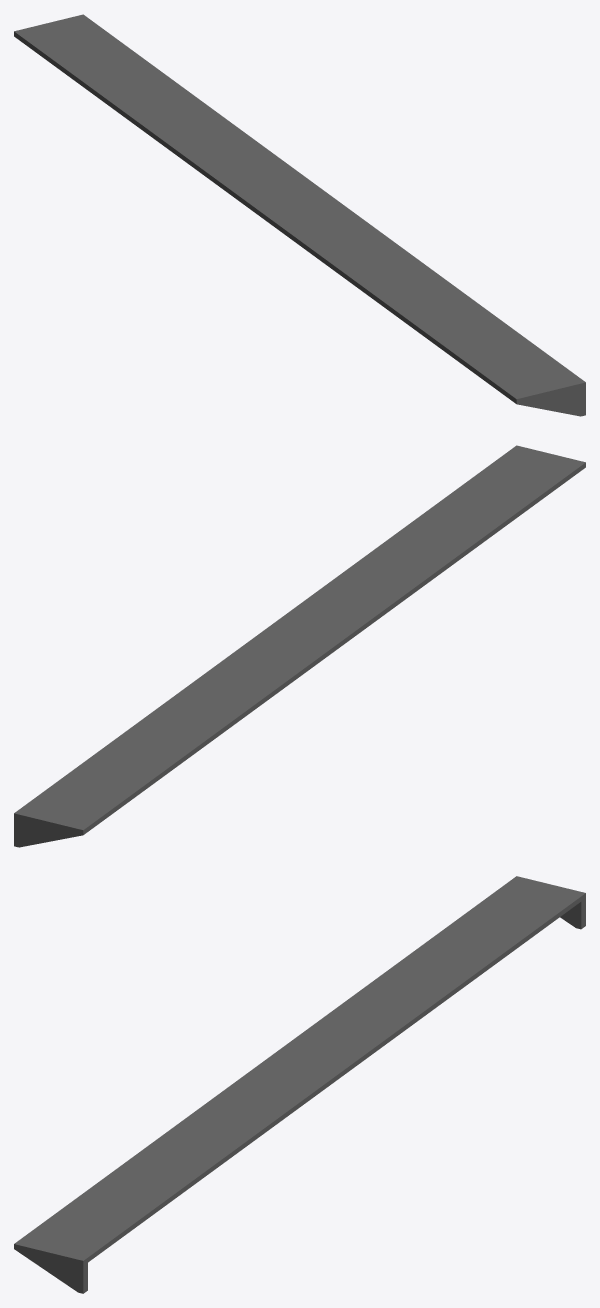
Rendered from Large Shelf.fbx.
3 views of the same model, one above another, from view 1: azimuth 30°, elevation 25°; view 2: azimuth 150°, elevation 25°; view 3: azimuth 330°, elevation 25° (orthographic).
Visible parts, largest first — view 1: Shelf; view 2: Shelf; view 3: Shelf.
Part boxes in pixels (left/top/right/bottom): Shelf: left=14, top=14, right=585, bottom=416; Shelf: left=14, top=445, right=585, bottom=847; Shelf: left=14, top=876, right=585, bottom=1293.
Size of the model in its own units: 29.14 by 13.24 by 366.
